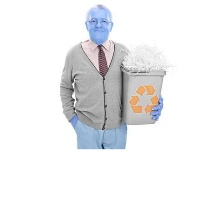book: (117, 39, 179, 76)
